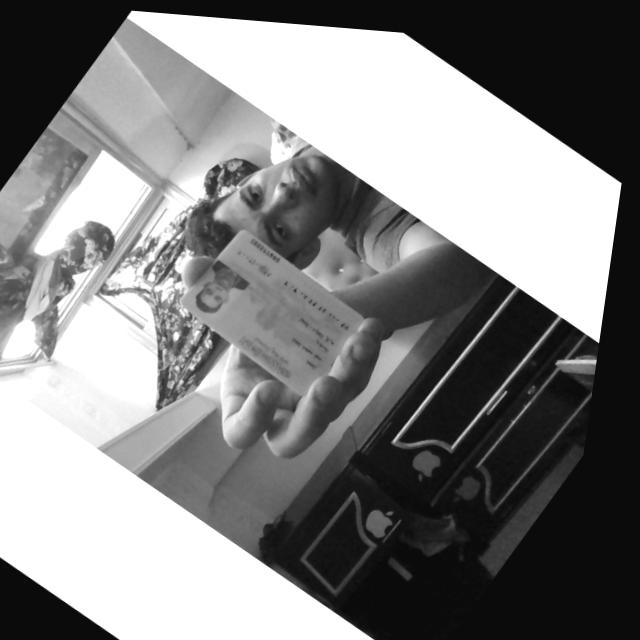id_card: (180, 231, 363, 396)
